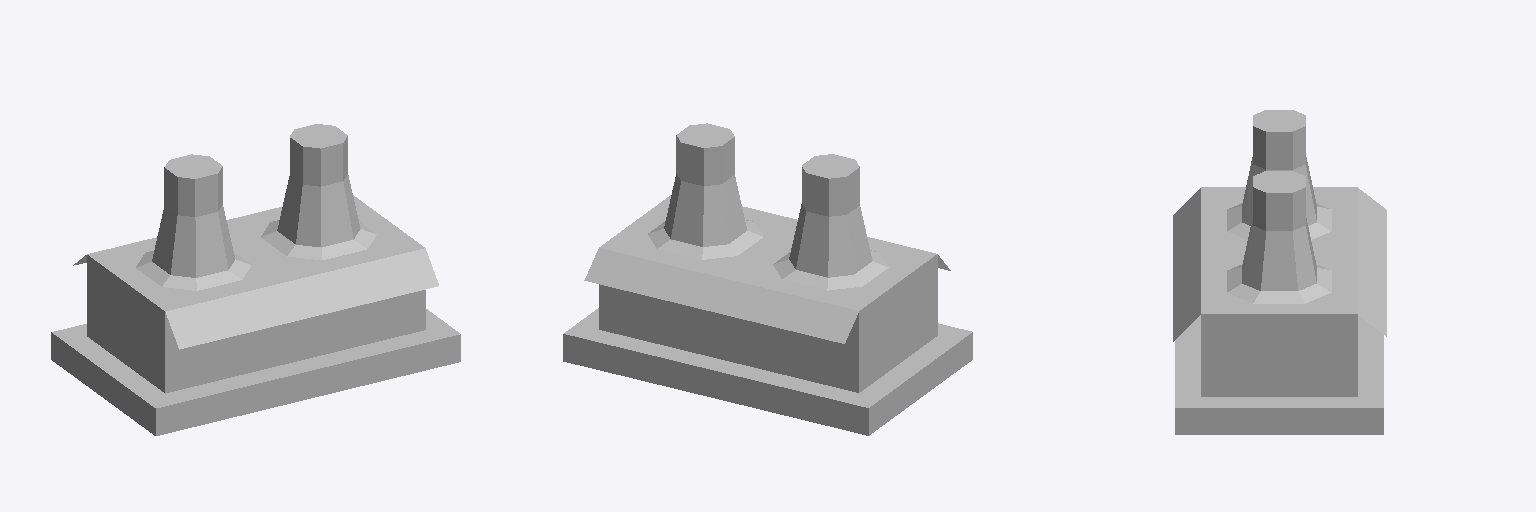
Rendered from glass_factory.obj.
The picture shows the model from 3 angles: view 1: azimuth 30°, elevation 25°; view 2: azimuth 150°, elevation 25°; view 3: azimuth 270°, elevation 25°; orthographic projection.
Visible parts, largest first — view 1: Cube; view 2: Cube; view 3: Cube.
Boxes of the visible parts, box(x1,y1,x2,y2) form: Cube: box(51, 124, 460, 435); Cube: box(563, 123, 972, 435); Cube: box(1173, 110, 1386, 434).
Bounding box in the file's own units: 11.53 × 7.56 × 6.99.